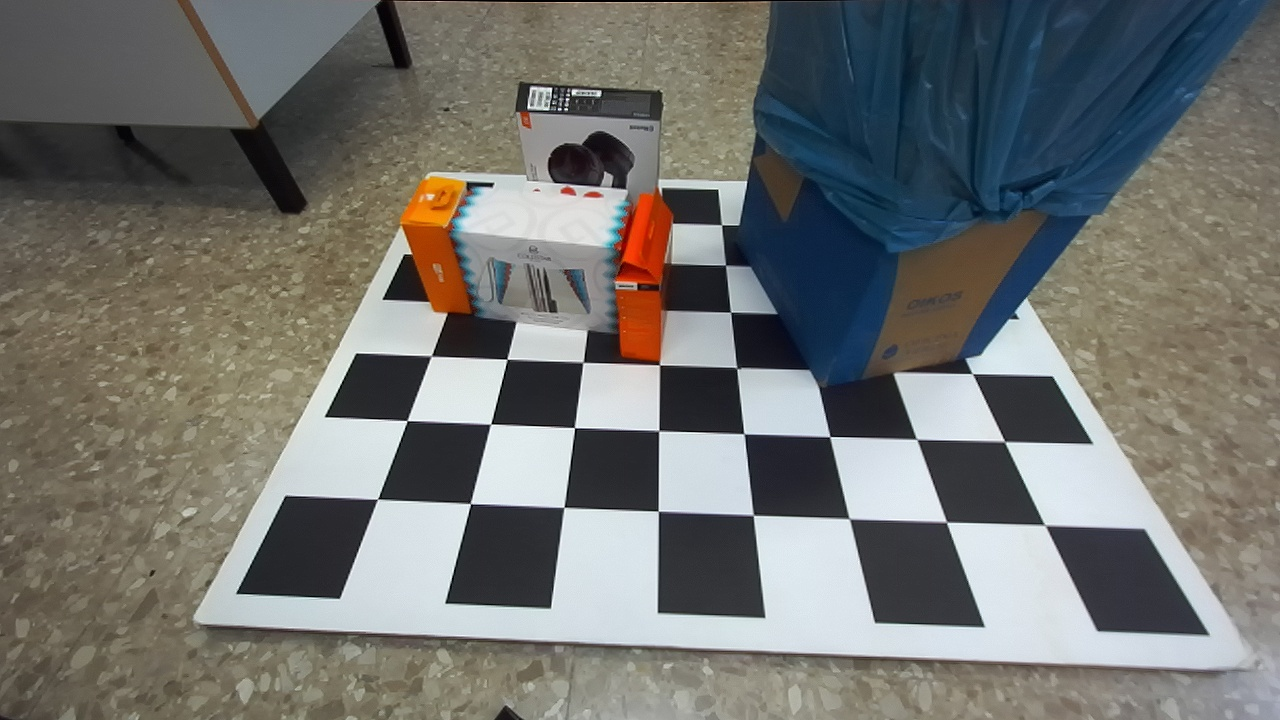caja_busbar: (452, 187, 633, 330)
caja_chasis: (513, 82, 663, 200)
caja_manguera: (615, 190, 672, 361)
caja_pcb: (401, 178, 470, 313)
caja_potencia: (523, 181, 629, 201)
